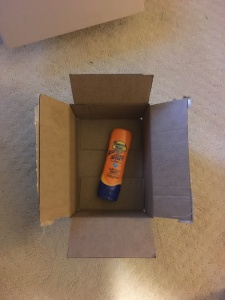innerbox: (69, 101, 153, 218)
outerbox: (38, 74, 191, 257)
product: (99, 128, 125, 200)
